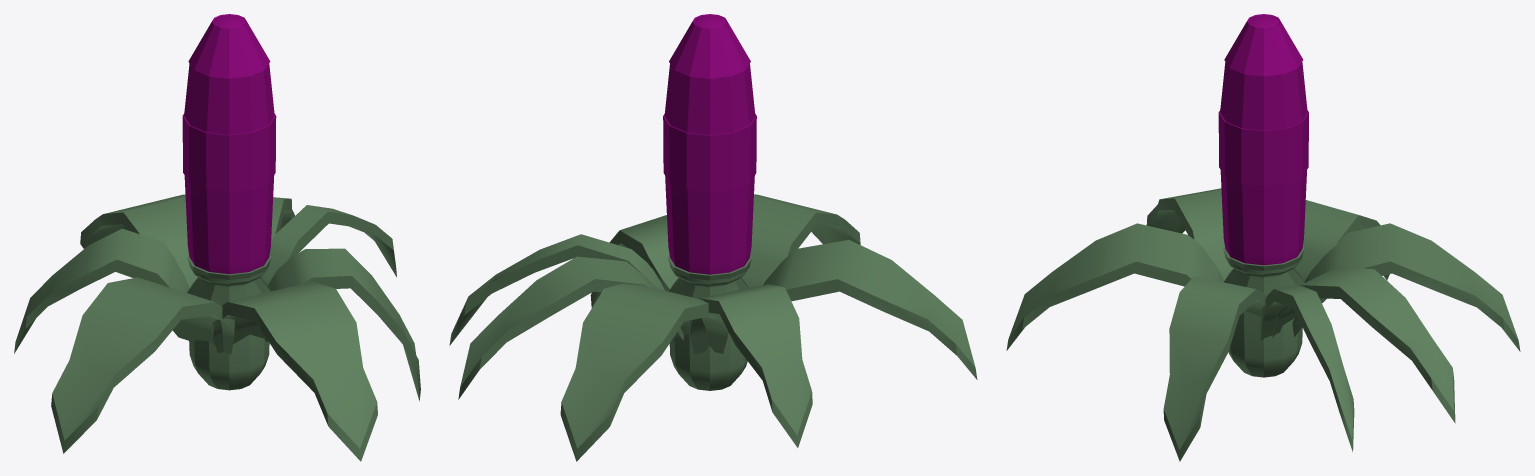
The model's file is glass2.fbx.
3 views of the same model, side by side, from view 1: azimuth 30°, elevation 25°; view 2: azimuth 150°, elevation 25°; view 3: azimuth 270°, elevation 25° (orthographic). The views are drawn at different scales.
Parts seen in each view (by area): view 1: group3_pasted__polySurface2_pasted__polySurface8; view 2: group3_pasted__polySurface2_pasted__polySurface8; view 3: group3_pasted__polySurface2_pasted__polySurface8.
Part boxes in pixels (<box>): group3_pasted__polySurface2_pasted__polySurface8: <box>14,14,420,461</box>; group3_pasted__polySurface2_pasted__polySurface8: <box>449,14,977,461</box>; group3_pasted__polySurface2_pasted__polySurface8: <box>1006,14,1520,461</box>.
Size of the model in its own units: 10.81 by 9.32 by 11.57.
